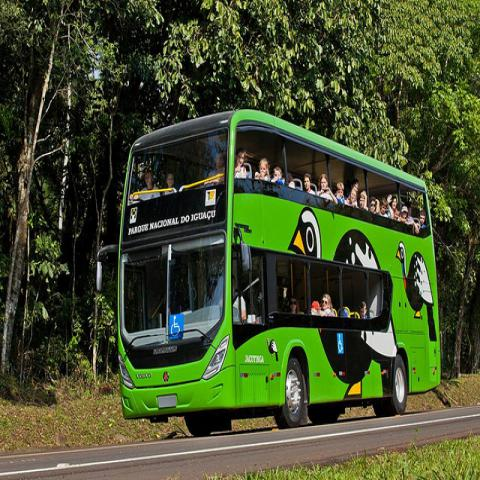bus: (122, 107, 442, 441)
